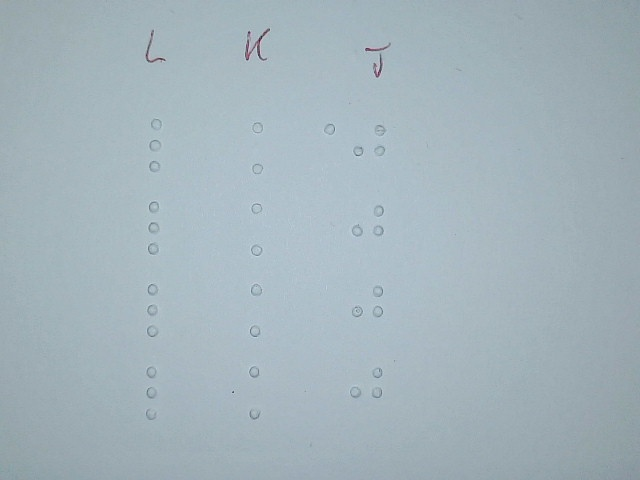J: (351, 116, 387, 177), (350, 196, 386, 257), (350, 277, 386, 338), (348, 358, 384, 419)
K: (241, 117, 292, 179), (240, 198, 291, 260), (240, 278, 291, 340), (238, 361, 289, 423)
L: (139, 114, 190, 176), (139, 196, 190, 258), (137, 278, 188, 340), (136, 362, 187, 424)
